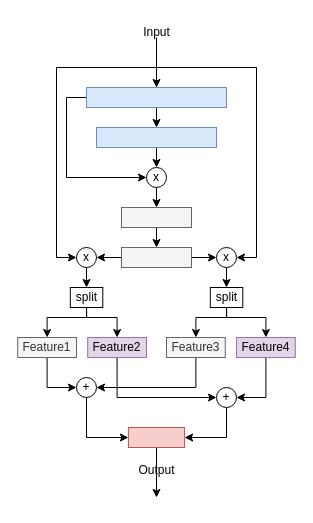
Image size: 313x523. Some labels were removed from this diagram. Here are the shapes that lost their labels. From the top down, the centre of each, then its label:
At point (156, 97): "Group Normalization".
At point (156, 137): "Distribution layer".
At point (156, 217): "Sigmoid".
At point (156, 257): "Threshold".
At point (156, 437): "concat".
